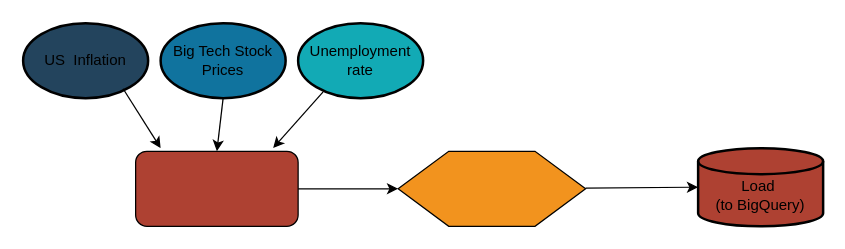
Some shapes in this 845 by 249 pixel diagram are drawn without their labels. Here are the shapes that lost their labels. From the top down, the centre of each, then its label:
At (216,188): "Extract (from Kaggle dataset)".
At (491,188): "Transform (using Python)".
